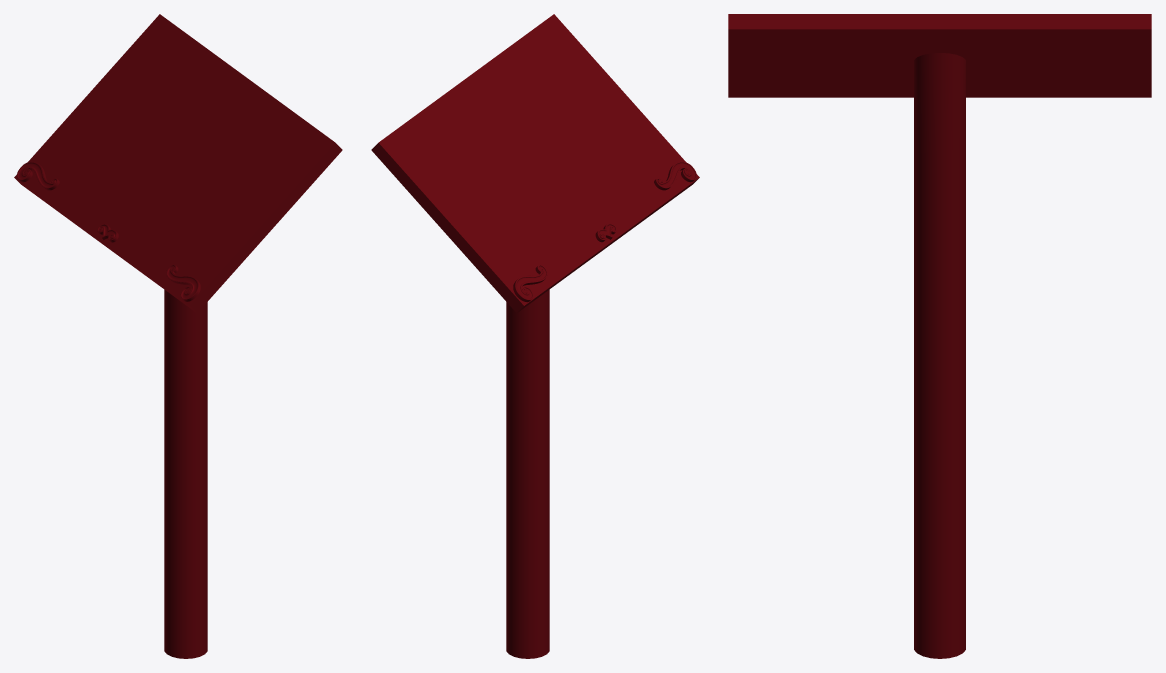
The model's file is PlacaSemiUnion.FBX.
3 renders of one model, left to right at view 1: azimuth 30°, elevation 25°; view 2: azimuth 150°, elevation 25°; view 3: azimuth 270°, elevation 25°, orthographic. The views are drawn at different scales.
Parts seen in each view (by area): view 1: Box031, Cylinder004; view 2: Box031, Cylinder004; view 3: Box031, Cylinder004.
Boxes of the visible parts, <box> form: Box031: <box>14,14,342,312</box>; Cylinder004: <box>164,289,207,658</box>; Box031: <box>371,14,699,312</box>; Cylinder004: <box>506,289,549,658</box>; Box031: <box>728,14,1151,97</box>; Cylinder004: <box>914,53,965,658</box>.
Size of the model in its own units: 16.02 by 55.02 by 31.5.
